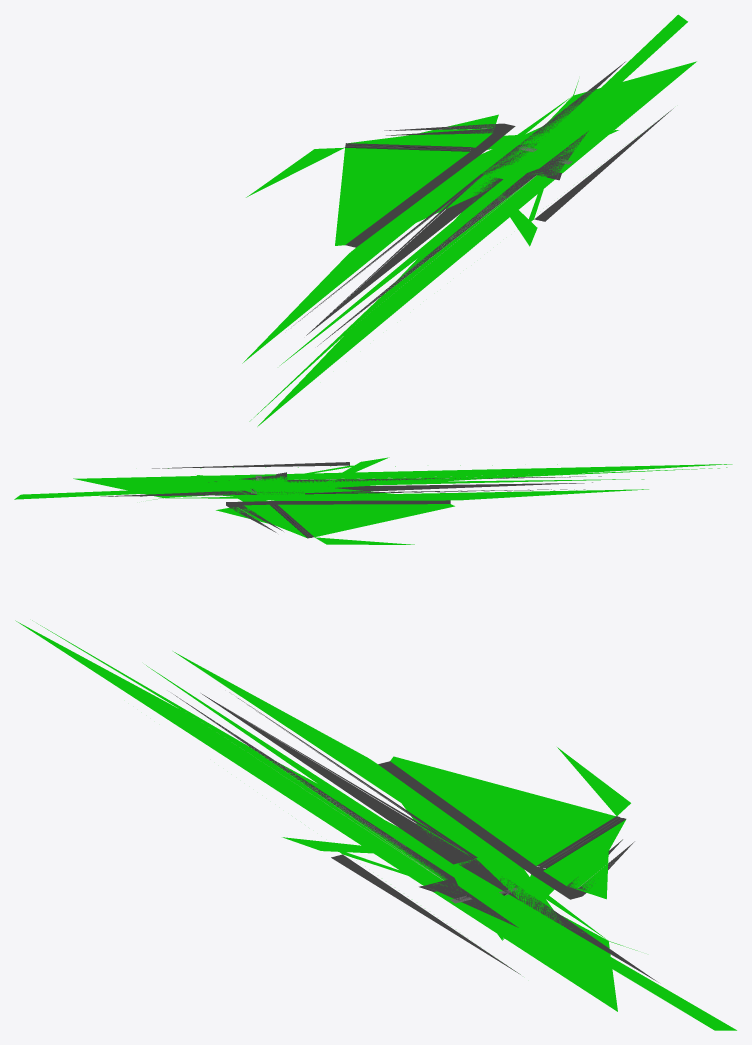
The picture shows the model from 3 angles, top to bottom: view 1: azimuth 30°, elevation 25°; view 2: azimuth 150°, elevation 25°; view 3: azimuth 270°, elevation 25°; orthographic projection. The views are drawn at different scales.
Bounding box in the file's own units: 285 × 0.32 × 204.
